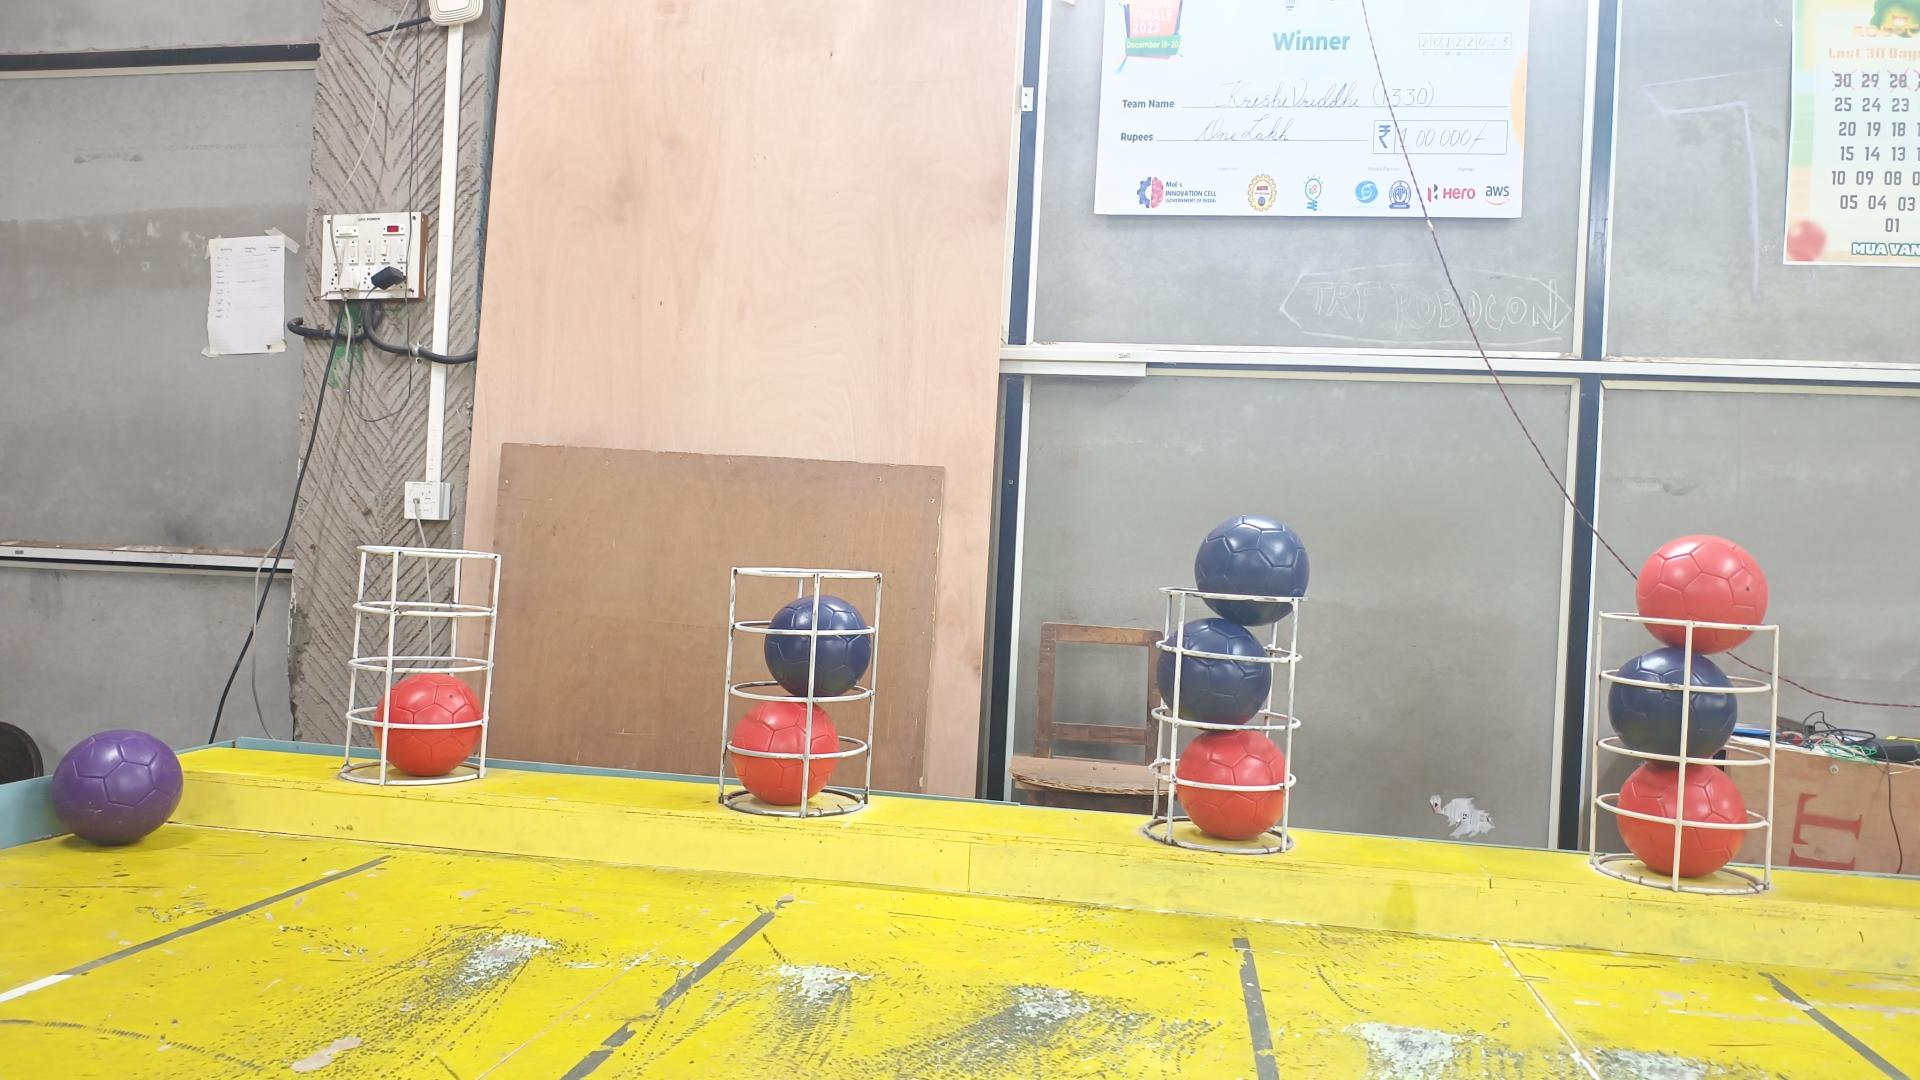dhoka: (1609, 647, 1735, 760), (1193, 513, 1305, 626), (1155, 617, 1271, 725), (765, 593, 869, 699)
laale: (1634, 535, 1768, 655), (1618, 761, 1750, 881), (1175, 729, 1287, 839), (372, 670, 484, 774), (729, 702, 839, 807)
